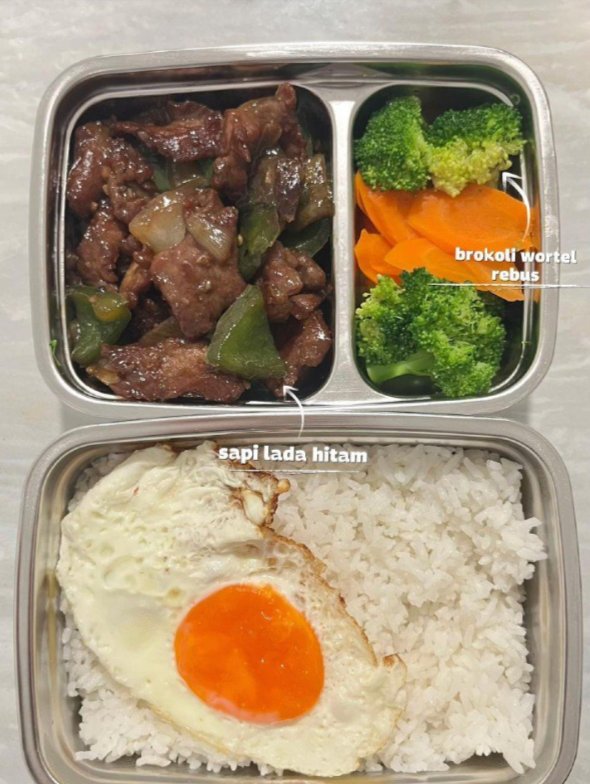buah_sayur_lainnya: (380, 282, 484, 386), (378, 107, 498, 178)
buah_sayur_vitA: (375, 202, 530, 274)
daging: (100, 120, 306, 366)
makanan_berpati: (400, 486, 519, 742)
telur: (135, 540, 300, 710)
